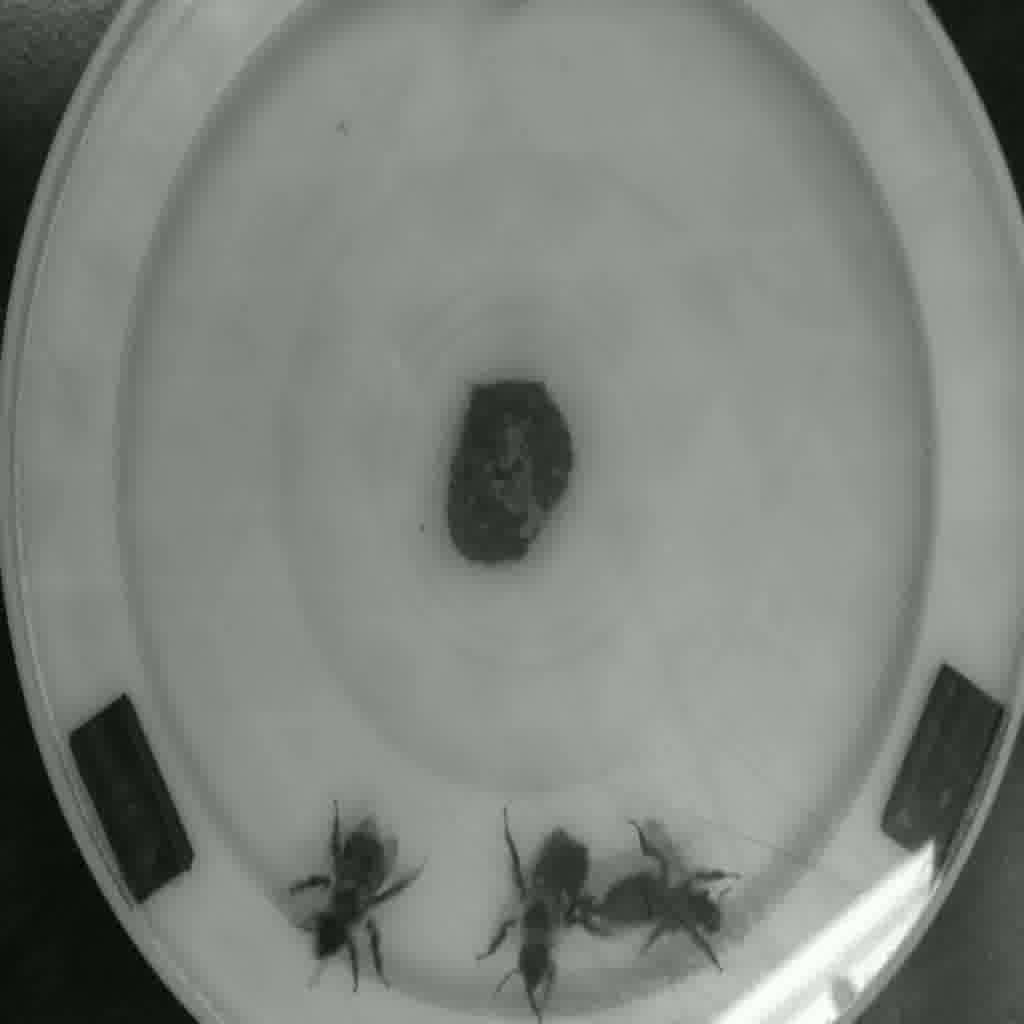bee: (294, 826, 404, 962), (591, 843, 740, 932), (505, 845, 593, 992)
